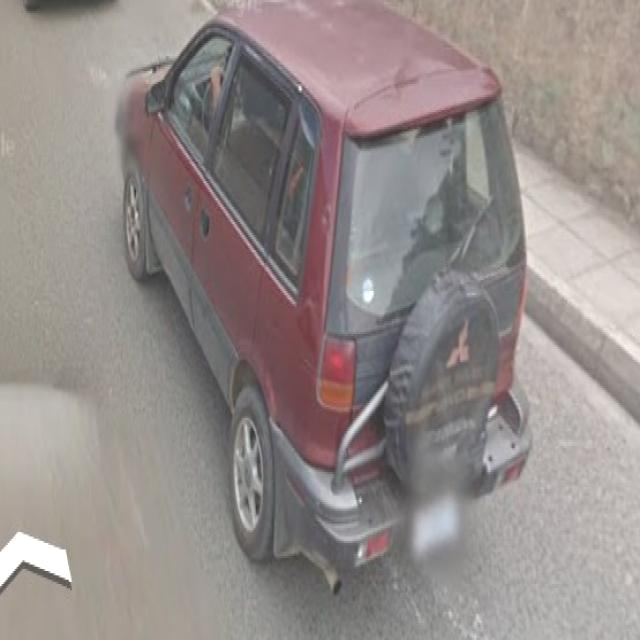car: (101, 5, 534, 575)
